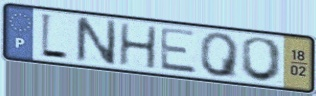E: (158, 25, 200, 76)
H: (117, 22, 159, 72)
L: (39, 11, 70, 63)
N: (73, 15, 119, 67)
O: (238, 36, 285, 84)
Q: (198, 32, 242, 80)
